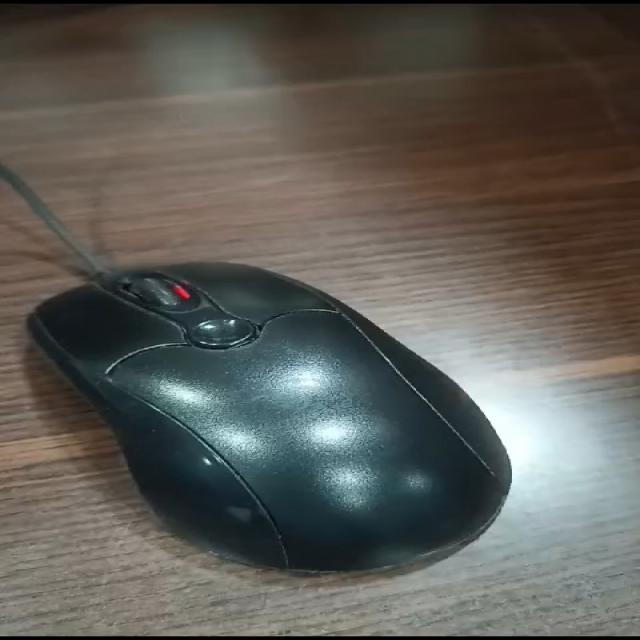mouse: (14, 243, 528, 584)
